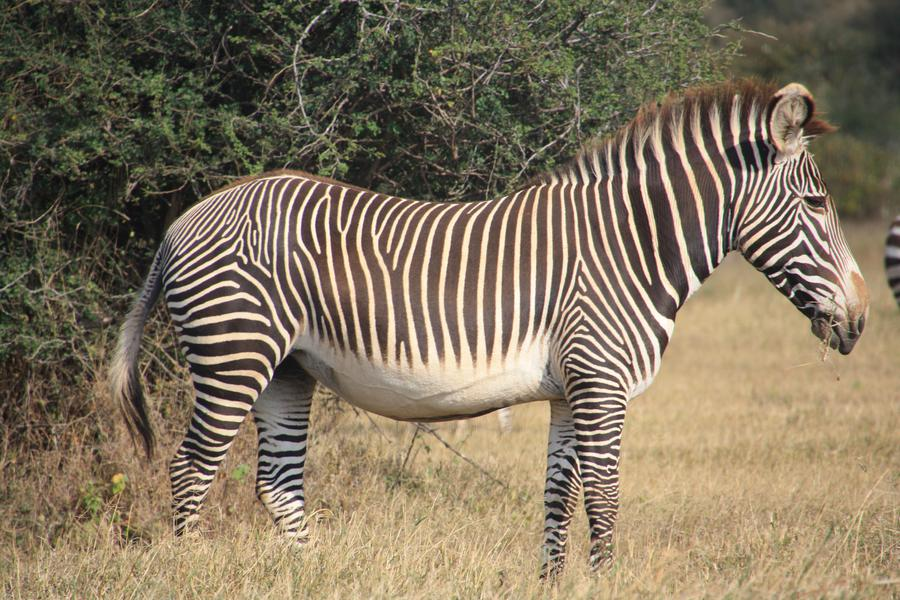zebra_grevys: (158, 134, 641, 411)
